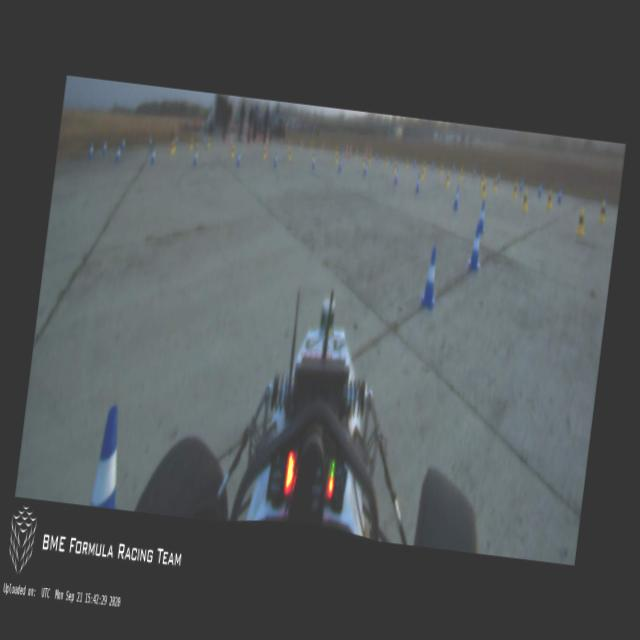blue_cone: (90, 402, 130, 509), (418, 244, 442, 310), (466, 221, 486, 272), (476, 200, 487, 232), (452, 184, 461, 210), (114, 146, 121, 162), (415, 174, 421, 192), (236, 150, 242, 168), (556, 186, 562, 203), (150, 148, 156, 164), (88, 142, 94, 158), (310, 154, 316, 169), (192, 150, 198, 165), (363, 160, 368, 176), (273, 151, 278, 167), (337, 156, 342, 171), (518, 178, 524, 190), (537, 184, 542, 198), (102, 140, 107, 153), (394, 168, 398, 183)
yellow_cone: (575, 206, 586, 236), (598, 200, 607, 222), (546, 188, 554, 210), (520, 190, 528, 212), (480, 180, 487, 197), (512, 180, 518, 198), (492, 175, 498, 192), (444, 172, 450, 186), (230, 144, 235, 158), (262, 146, 267, 160), (287, 148, 292, 160), (420, 167, 424, 181), (439, 163, 443, 176), (480, 173, 484, 186), (393, 160, 397, 172), (362, 154, 366, 166)
